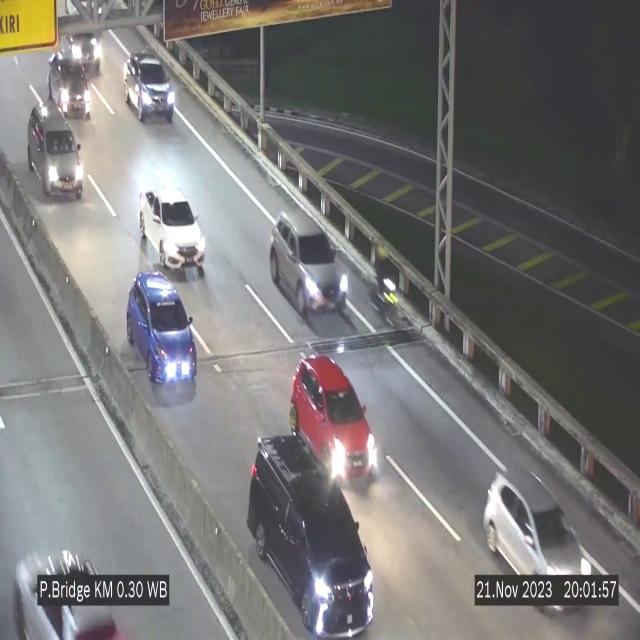Car: (238, 436, 379, 636), (289, 355, 383, 481), (270, 207, 350, 331), (124, 272, 200, 388), (138, 184, 206, 278), (26, 100, 86, 201), (122, 54, 174, 124), (47, 50, 92, 120)
Motorcycle: (367, 242, 402, 331)
